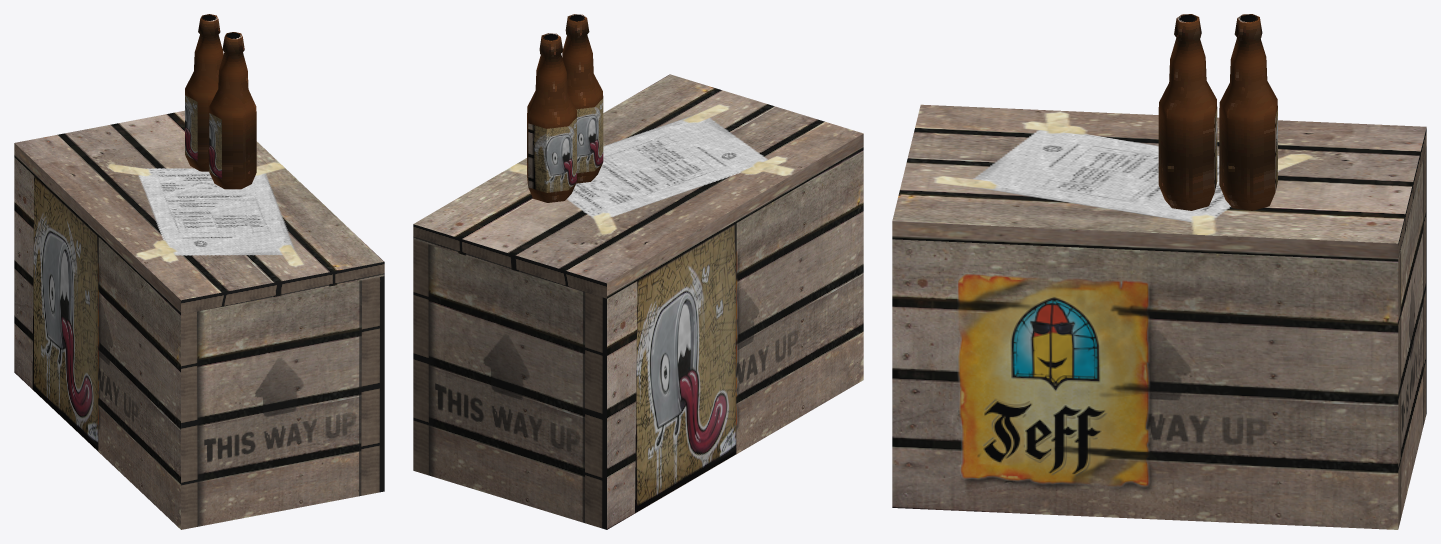
3 views of the same model, side by side, from view 1: azimuth 30°, elevation 25°; view 2: azimuth 150°, elevation 25°; view 3: azimuth 270°, elevation 25° (orthographic). The views are drawn at different scales.
Parts seen in each view (by area): view 1: Empty_Mesh; view 2: Empty_Mesh; view 3: Empty_Mesh.
Part boxes in pixels (x1,y1,x2,y2): Empty_Mesh: (14, 14, 384, 529); Empty_Mesh: (413, 14, 863, 529); Empty_Mesh: (892, 14, 1426, 529).
Size of the model in its own units: 51.1 by 80.59 by 83.13.
